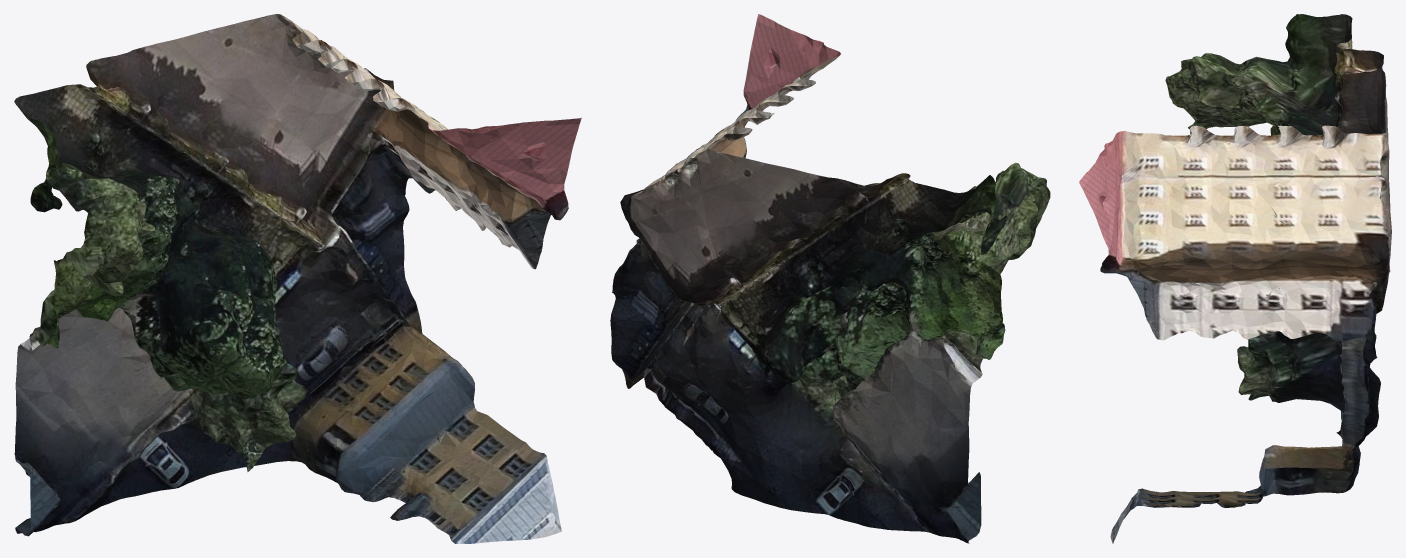
The model's file is Tile_+031_+022_L21_00001000.obj.
3 renders of one model, left to right at view 1: azimuth 30°, elevation 25°; view 2: azimuth 150°, elevation 25°; view 3: azimuth 270°, elevation 25°, orthographic. The views are drawn at different scales.
Size of the model in its own units: 31.38 by 31.31 by 24.59.
1 material, 1 textured.
